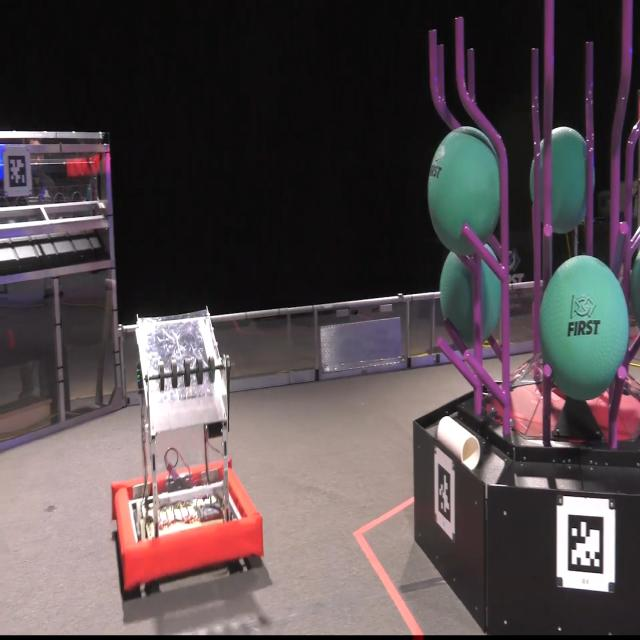Coral: (436, 414, 480, 471)
